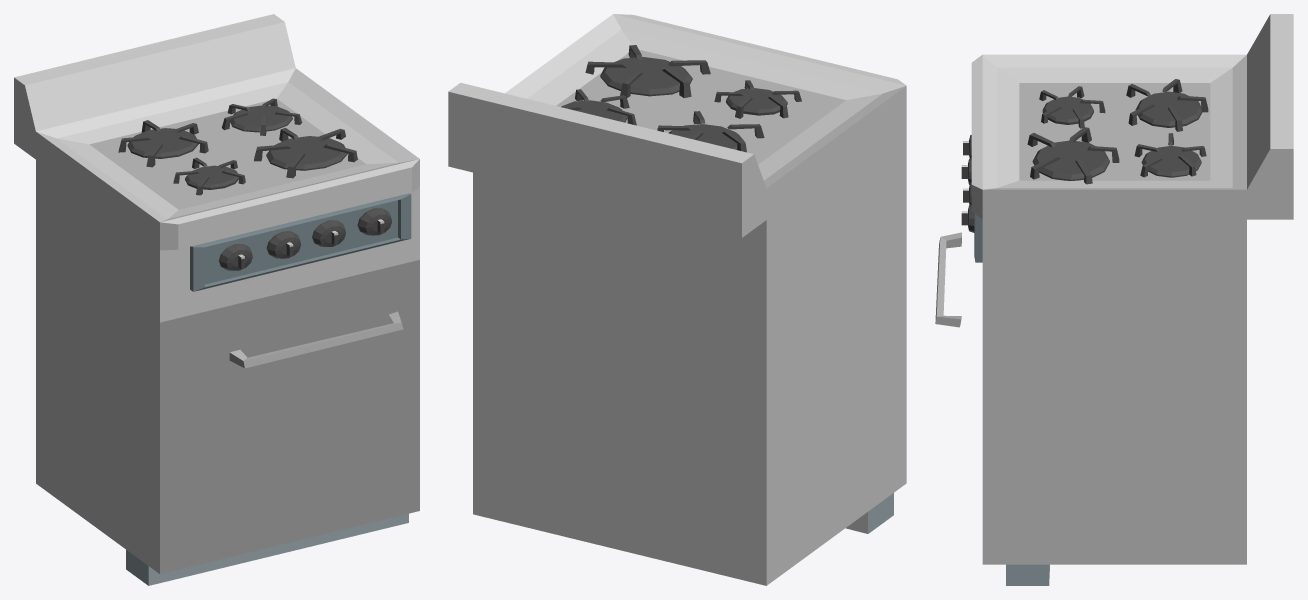
Rendered from maincookware.fbx.
3 views of the same model, side by side, from view 1: azimuth 30°, elevation 25°; view 2: azimuth 150°, elevation 25°; view 3: azimuth 270°, elevation 25° (orthographic). The views are drawn at different scales.
Visible parts, largest first — view 1: polySurface1, polySurface36, polySurface6, polySurface8, polySurface7, polySurface10, polySurface9, polySurface3, polySurface5, polySurface2, polySurface4; view 2: polySurface1, polySurface8, polySurface9, polySurface7, polySurface10; view 3: polySurface1, polySurface8, polySurface7, polySurface10, polySurface6, polySurface9.
Part boxes in pixels (<box>): polySurface1: <box>14,14,419,585</box>; polySurface36: <box>190,193,411,291</box>; polySurface6: <box>229,311,403,368</box>; polySurface8: <box>266,136,347,170</box>; polySurface7: <box>127,128,198,158</box>; polySurface10: <box>230,105,292,132</box>; polySurface9: <box>185,165,238,189</box>; polySurface3: <box>266,231,301,258</box>; polySurface5: <box>357,208,391,235</box>; polySurface2: <box>219,244,252,270</box>; polySurface4: <box>312,220,345,246</box>; polySurface1: <box>448,14,906,585</box>; polySurface8: <box>600,57,692,96</box>; polySurface9: <box>726,88,787,115</box>; polySurface7: <box>669,124,745,149</box>; polySurface10: <box>561,100,627,122</box>; polySurface1: <box>971,14,1293,585</box>; polySurface8: <box>1032,140,1109,180</box>; polySurface7: <box>1135,91,1202,127</box>; polySurface10: <box>1141,145,1201,177</box>; polySurface6: <box>935,232,961,327</box>; polySurface9: <box>1042,96,1093,124</box>.
Bounding box in the file's own units: 71.01 × 107 × 79.54.
